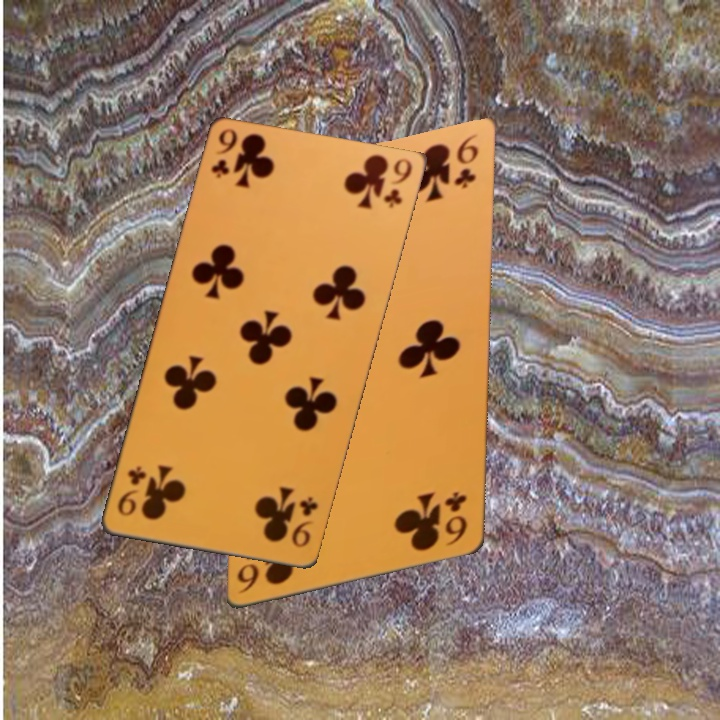6c: (446, 481, 474, 549), (456, 128, 483, 196)
9c: (110, 464, 148, 527), (377, 157, 415, 220), (284, 495, 322, 557), (204, 127, 242, 189)
